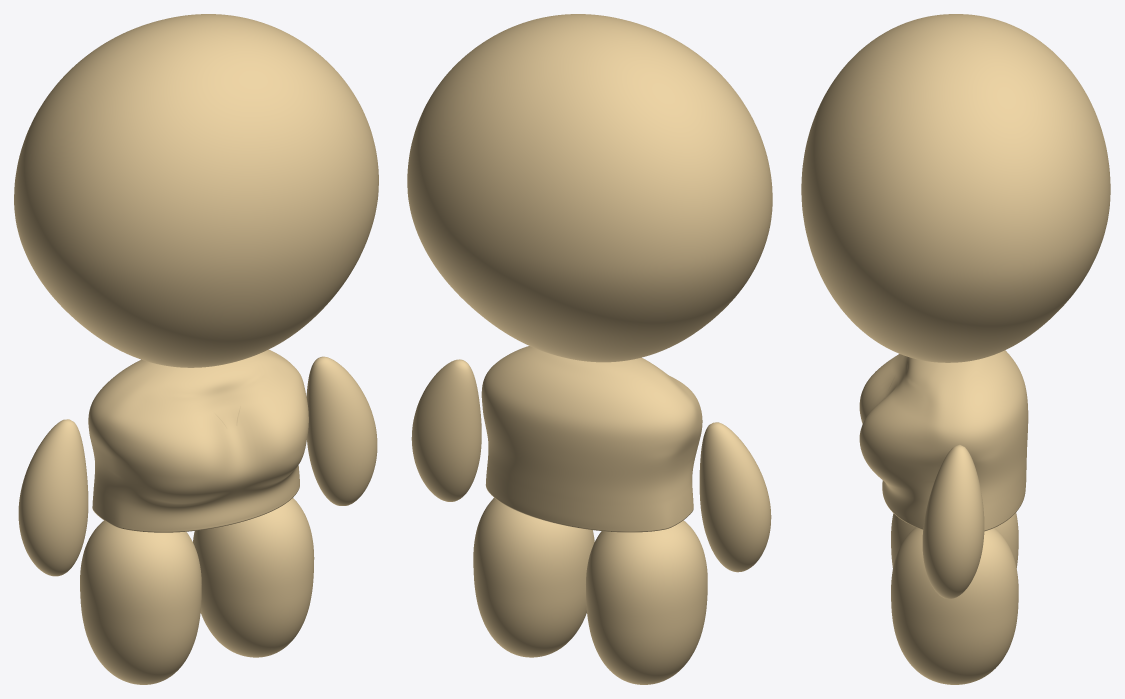
The model's file is Feminine-uncovered-base.glb.
3 views of the same model, side by side, from view 1: azimuth 30°, elevation 25°; view 2: azimuth 150°, elevation 25°; view 3: azimuth 270°, elevation 25° (orthographic). The views are drawn at different scales.
Visible parts, largest first — view 1: Skin / soft oval head, Skin / rounded torso, Skin / leg blob -1, Skin / leg blob 1, Skin / swept arm -1, Skin / swept arm 1; view 2: Skin / soft oval head, Skin / rounded torso, Skin / leg blob -1, Skin / leg blob 1, Skin / swept arm -1, Skin / swept arm 1; view 3: Skin / soft oval head, Skin / rounded torso, Skin / leg blob 1, Skin / swept arm 1, Skin / leg blob -1.
Part boxes in pixels (bbox=[...]): Skin / soft oval head: bbox=[14, 14, 378, 367]; Skin / rounded torso: bbox=[88, 349, 308, 532]; Skin / leg blob -1: bbox=[80, 520, 201, 684]; Skin / leg blob 1: bbox=[193, 498, 314, 657]; Skin / swept arm -1: bbox=[18, 419, 88, 576]; Skin / swept arm 1: bbox=[306, 356, 377, 505]; Skin / soft oval head: bbox=[407, 14, 772, 362]; Skin / rounded torso: bbox=[481, 346, 702, 532]; Skin / leg blob -1: bbox=[586, 520, 707, 684]; Skin / leg blob 1: bbox=[473, 498, 594, 657]; Skin / swept arm -1: bbox=[699, 422, 771, 572]; Skin / swept arm 1: bbox=[411, 359, 481, 501]; Skin / soft oval head: bbox=[801, 14, 1110, 362]; Skin / rounded torso: bbox=[859, 350, 1028, 531]; Skin / leg blob 1: bbox=[891, 527, 1018, 684]; Skin / swept arm 1: bbox=[922, 444, 984, 598]; Skin / leg blob -1: bbox=[891, 512, 1018, 567].
Size of the model in its own units: 1.04 by 1.8 by 0.81.
